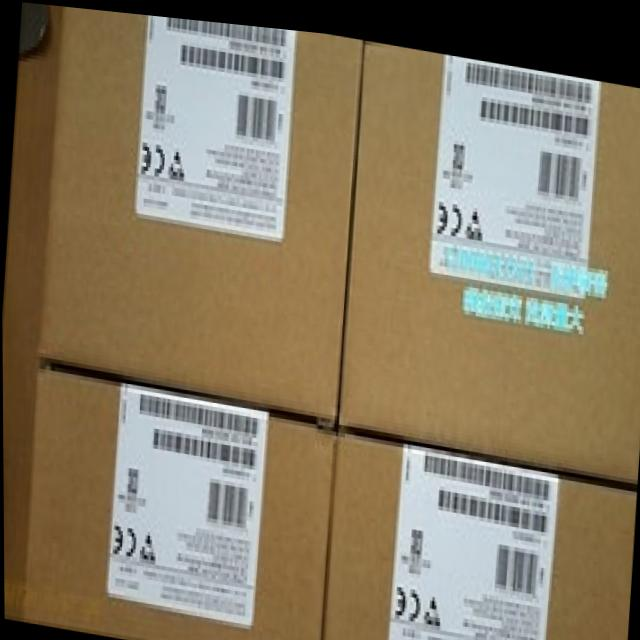box: (2, 2, 365, 420), (333, 32, 640, 474), (2, 358, 333, 640), (319, 420, 636, 640)
